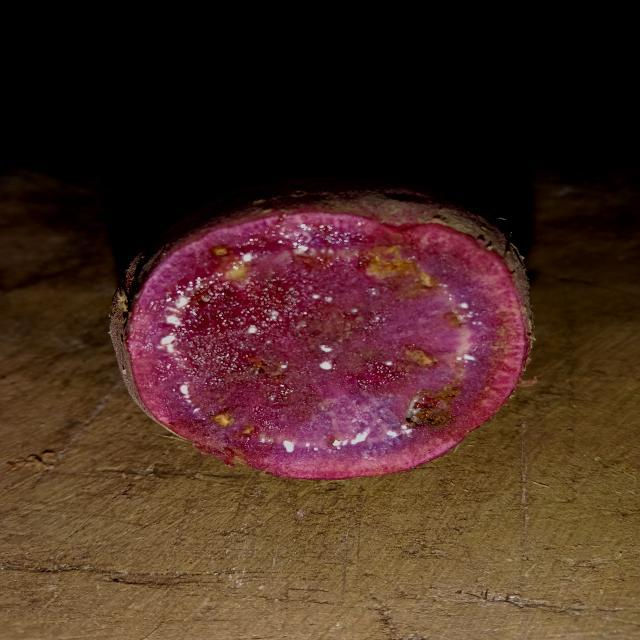Sick Sweet Potato_Tuber Rot: (127, 212, 528, 479)
